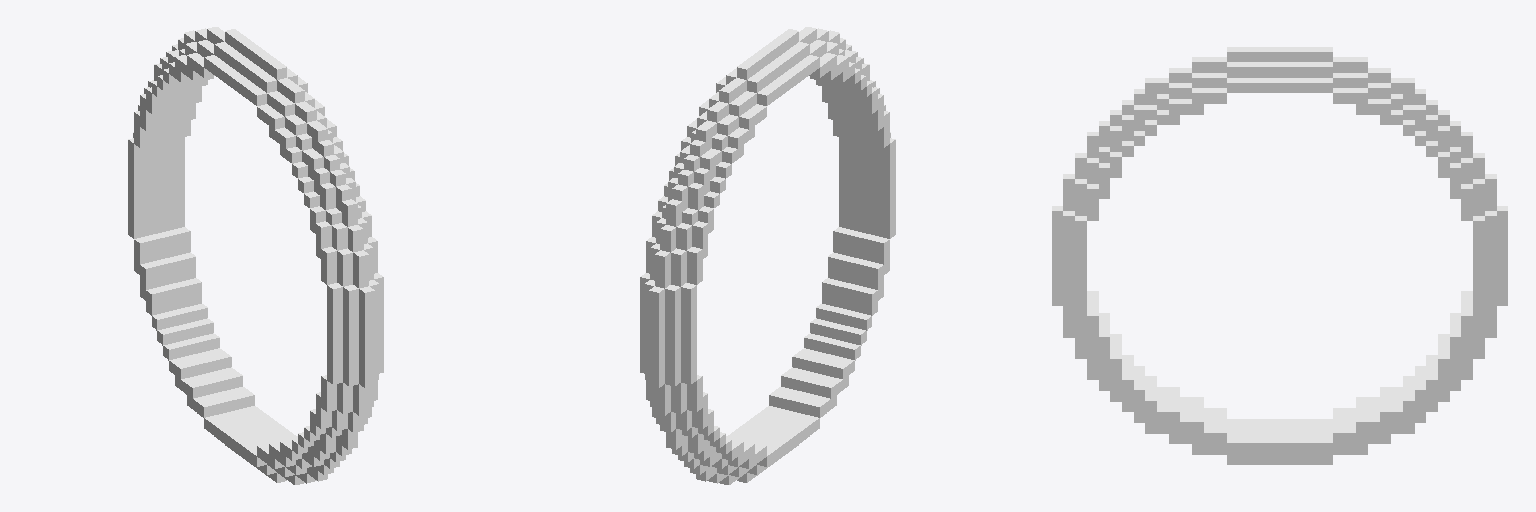
Rendered from bumper.obj.
The picture shows the model from 3 angles: view 1: azimuth 30°, elevation 25°; view 2: azimuth 150°, elevation 25°; view 3: azimuth 270°, elevation 25°; orthographic projection.
Size of the model in its own units: 5 by 39 by 39.